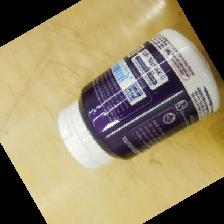Xylitol_BTS: (55, 26, 224, 171)
